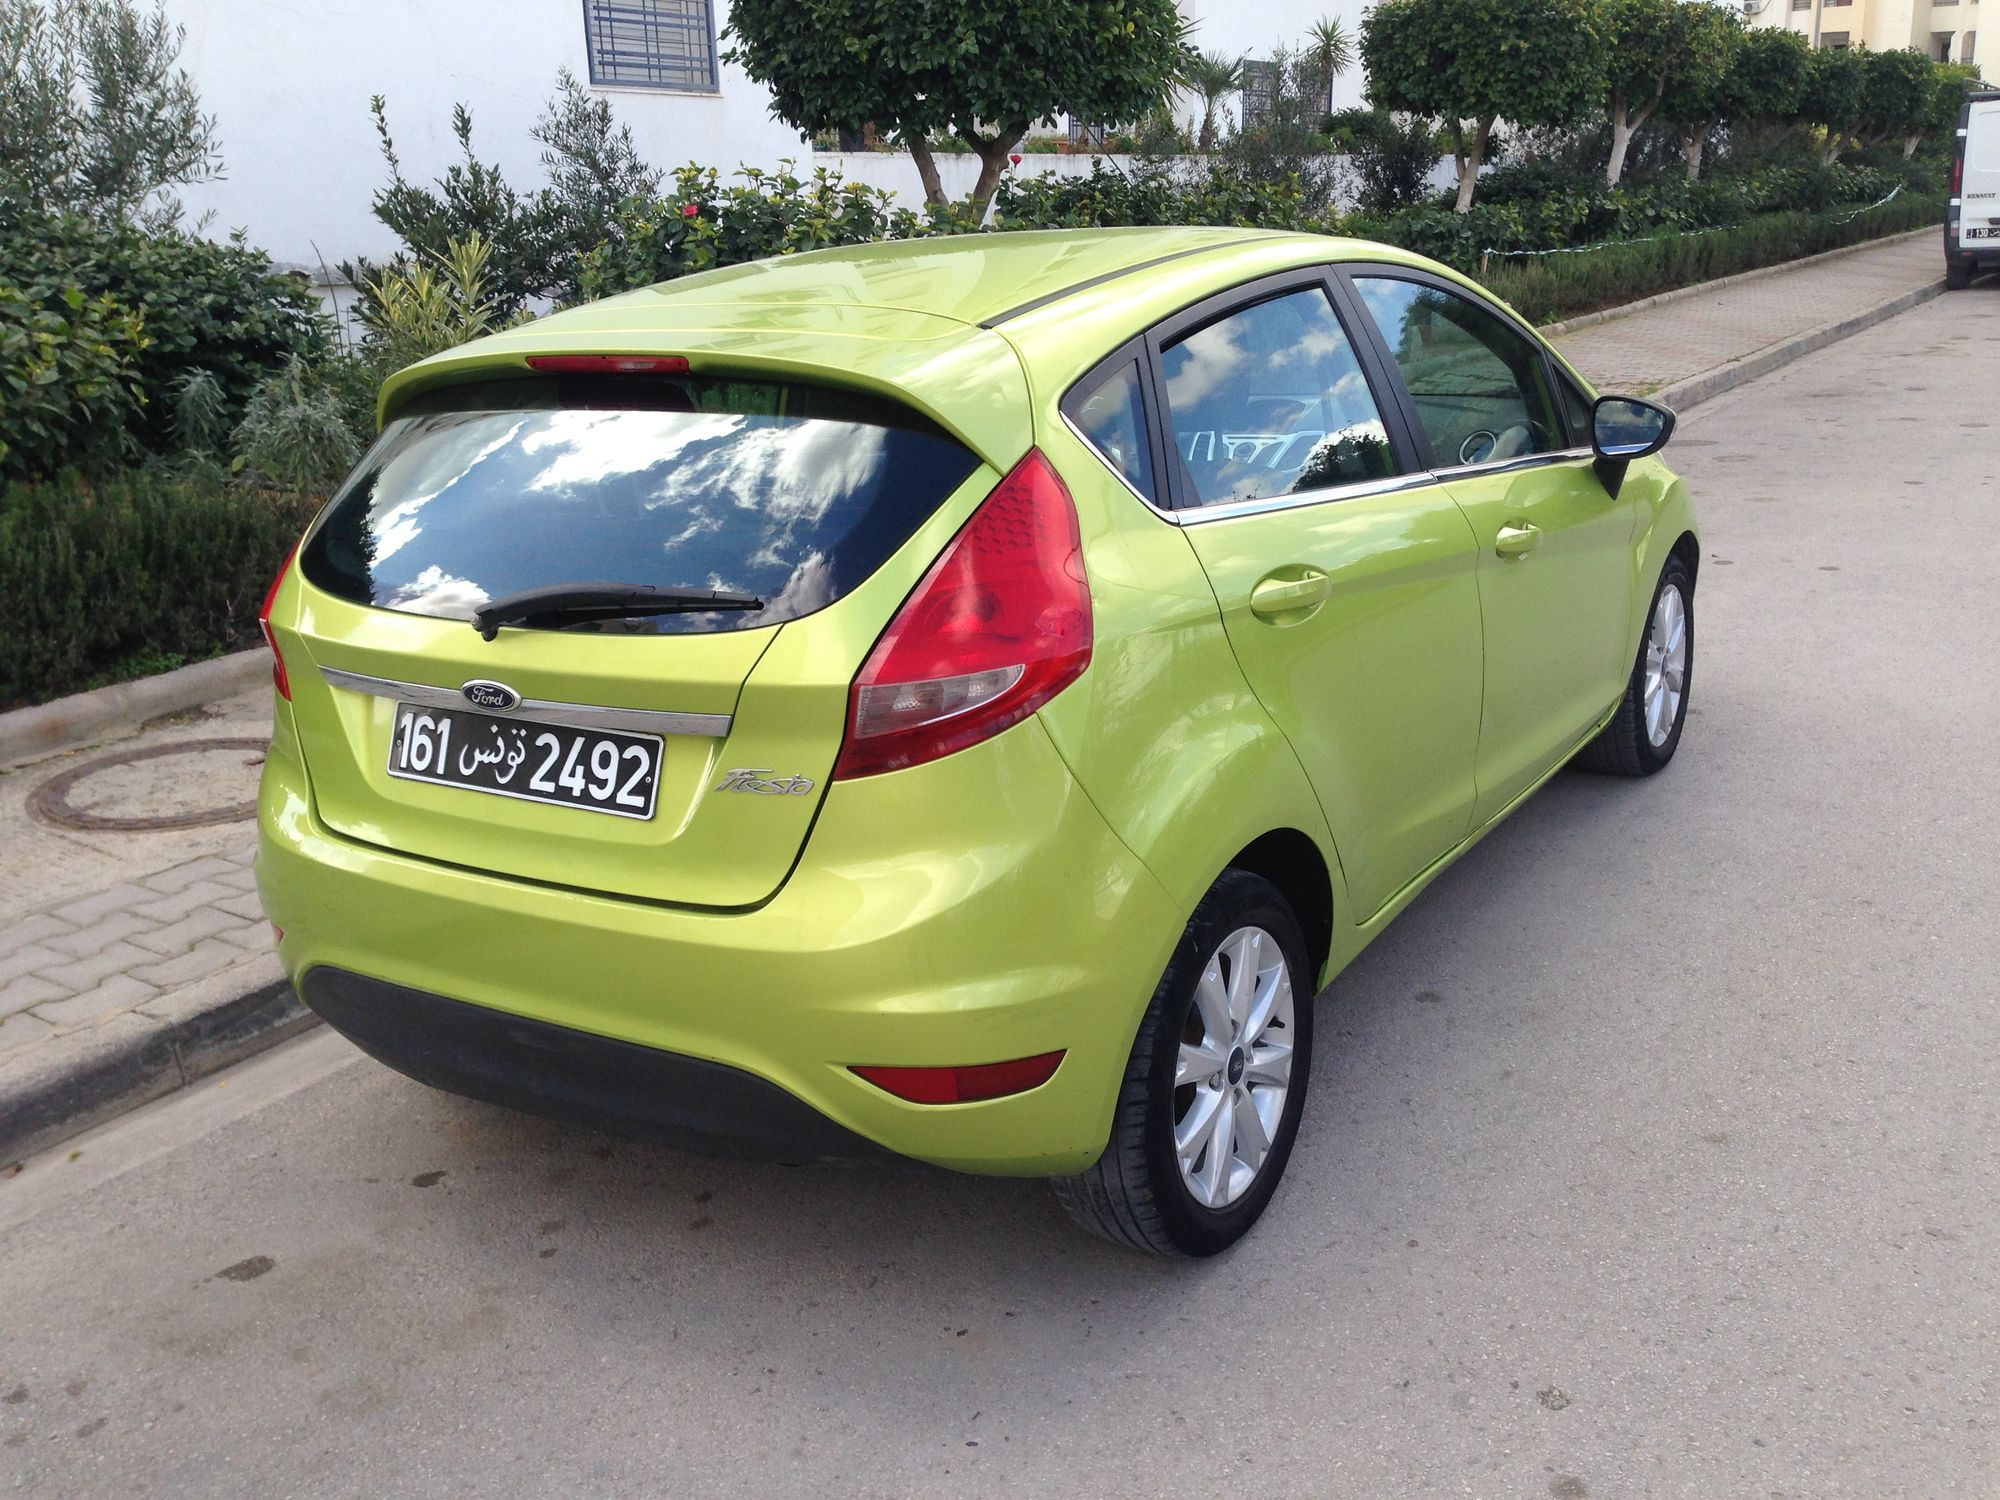LP: (386, 698, 664, 824)
